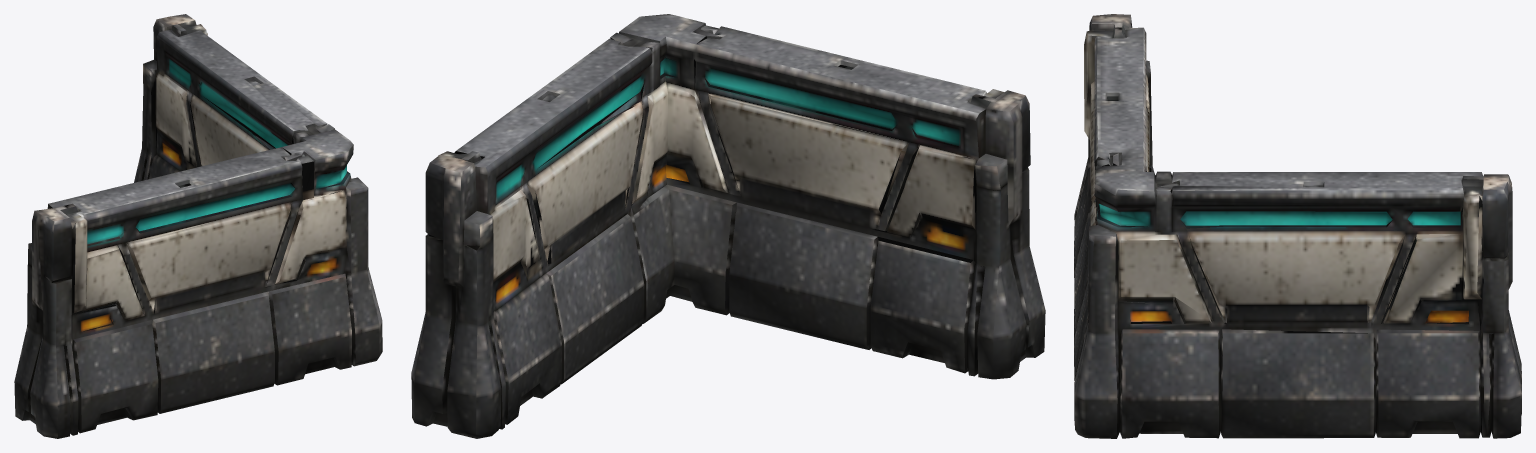
The model's file is kairox-barrier-corner.glb.
3 renders of one model, left to right at view 1: azimuth 30°, elevation 25°; view 2: azimuth 150°, elevation 25°; view 3: azimuth 270°, elevation 25°, orthographic. The views are drawn at different scales.
Parts seen in each view (by area): view 1: kairox-barrier-corner; view 2: kairox-barrier-corner; view 3: kairox-barrier-corner.
Boxes of the visible parts, x1=… form: kairox-barrier-corner: x1=14, y1=14, x2=382, y2=438; kairox-barrier-corner: x1=411, y1=14, x2=1045, y2=438; kairox-barrier-corner: x1=1074, y1=14, x2=1521, y2=438.
Bounding box in the file's own units: 2 × 1.2 × 2.
Materials: 1 (1 with a texture image).
